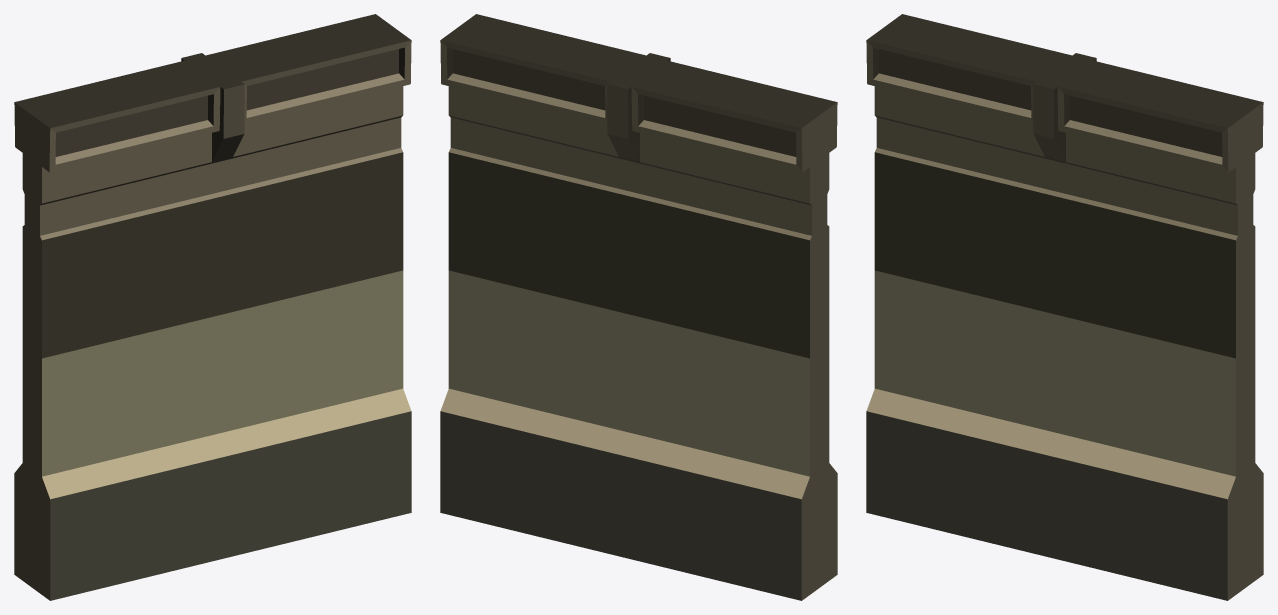
Rendered from CRR_Wall_1U_Double.fbx.
3 renders of one model, left to right at view 1: azimuth 30°, elevation 25°; view 2: azimuth 150°, elevation 25°; view 3: azimuth 330°, elevation 25°, orthographic.
Visible parts, largest first — view 1: CRR_Wall_1U_Double; view 2: CRR_Wall_1U_Double; view 3: CRR_Wall_1U_Double.
Boxes of the visible parts, left/top/right/bottom form: CRR_Wall_1U_Double: left=14, top=14, right=411, bottom=600; CRR_Wall_1U_Double: left=440, top=14, right=837, bottom=600; CRR_Wall_1U_Double: left=866, top=14, right=1263, bottom=600.
Bounding box in the file's own units: 2 × 2.5 × 0.4103.
